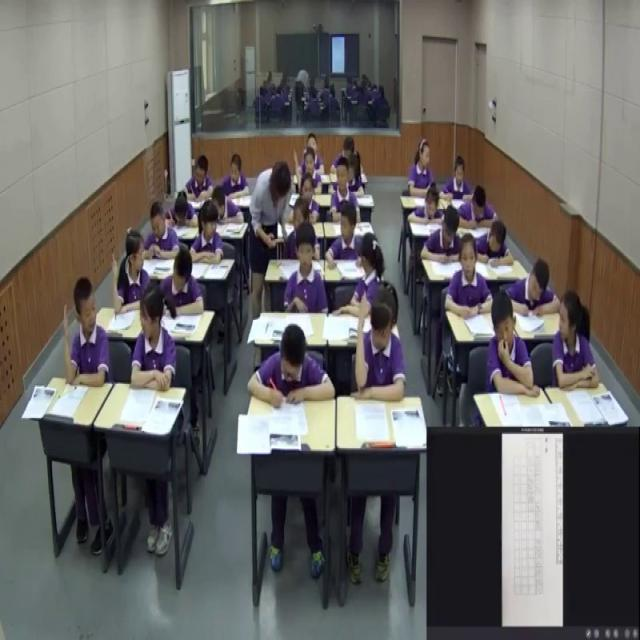distracted: (484, 291, 540, 402), (132, 284, 177, 396), (554, 291, 603, 390), (286, 222, 330, 314), (110, 228, 151, 307), (350, 232, 387, 319), (328, 200, 373, 263), (187, 202, 224, 266), (328, 159, 360, 220), (408, 134, 438, 197)
focused: (249, 322, 333, 410), (445, 232, 495, 322), (159, 249, 207, 318), (509, 254, 560, 318), (420, 201, 465, 265), (476, 217, 518, 273), (458, 181, 499, 230), (408, 178, 446, 228), (144, 201, 176, 260), (444, 155, 476, 204), (181, 153, 214, 200), (220, 151, 251, 198), (208, 186, 245, 225), (167, 186, 200, 228), (298, 174, 321, 222)
raising_hand: (356, 280, 410, 406), (63, 277, 114, 391), (292, 145, 318, 194)
